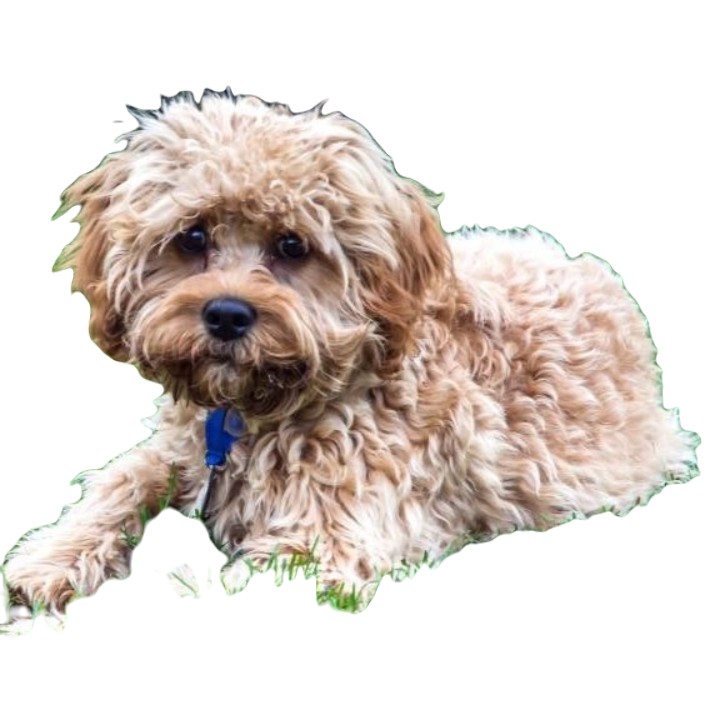Dog: (2, 84, 695, 618)
